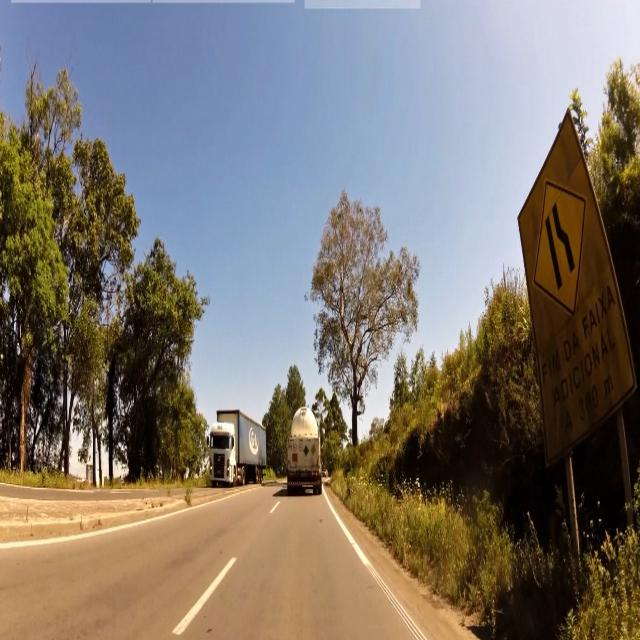A-21c: (534, 179, 587, 310)
